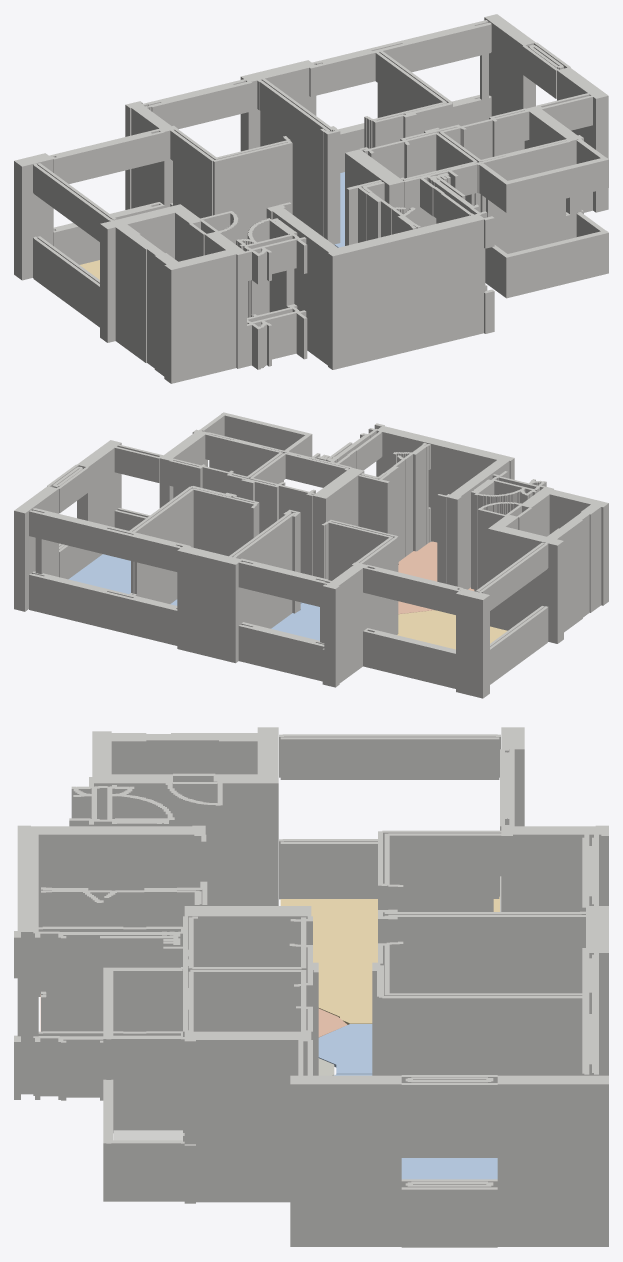
3 renders of one model, top to bottom at view 1: azimuth 30°, elevation 25°; view 2: azimuth 150°, elevation 25°; view 3: azimuth 270°, elevation 25°, orthographic. The views are drawn at different scales.
Visible parts, largest first — view 1: walls; view 2: walls, room:living:8, room:bedroom:1, room:kitchen:4, room:bedroom:0; view 3: walls, room:living:8, room:bedroom:0, room:bedroom:1, room:ledge:6.
Boxes of the visible parts, x1,y1,x2,y2 form: walls: (14, 14, 608, 383); walls: (14, 412, 608, 698); room:living:8: (397, 610, 507, 649); room:bedroom:1: (68, 554, 130, 593); room:kitchen:4: (398, 541, 474, 614); room:bedroom:0: (271, 603, 319, 640); walls: (14, 727, 608, 1247); room:living:8: (280, 896, 499, 1024); room:bedroom:0: (318, 1024, 372, 1074); room:bedroom:1: (401, 1158, 497, 1179); room:ledge:6: (113, 1130, 182, 1141).
Size of the model in its own units: 13.22 by 2.8 by 9.29.
